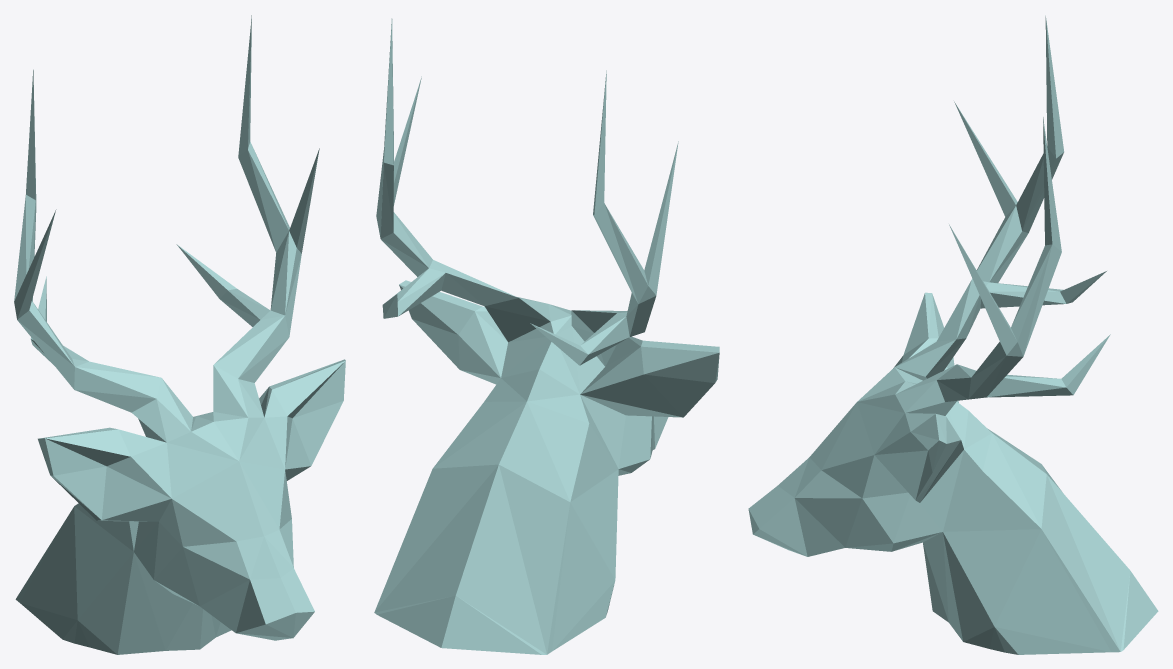
Rendered from Prop_Christmas_Ornament_Reindeer_Head_Tarnished_01.FBX.
3 renders of one model, left to right at view 1: azimuth 30°, elevation 25°; view 2: azimuth 150°, elevation 25°; view 3: azimuth 270°, elevation 25°, orthographic. The views are drawn at different scales.
Visible parts, largest first — view 1: Prop_Christmas_Ornament_Reindeer_Head_Tarnished_01; view 2: Prop_Christmas_Ornament_Reindeer_Head_Tarnished_01; view 3: Prop_Christmas_Ornament_Reindeer_Head_Tarnished_01.
Part boxes in pixels (<box>): Prop_Christmas_Ornament_Reindeer_Head_Tarnished_01: <box>14,15,345,654</box>; Prop_Christmas_Ornament_Reindeer_Head_Tarnished_01: <box>374,18,719,654</box>; Prop_Christmas_Ornament_Reindeer_Head_Tarnished_01: <box>748,15,1158,654</box>.
Bounding box in the file's own units: 344 × 592 × 403.
